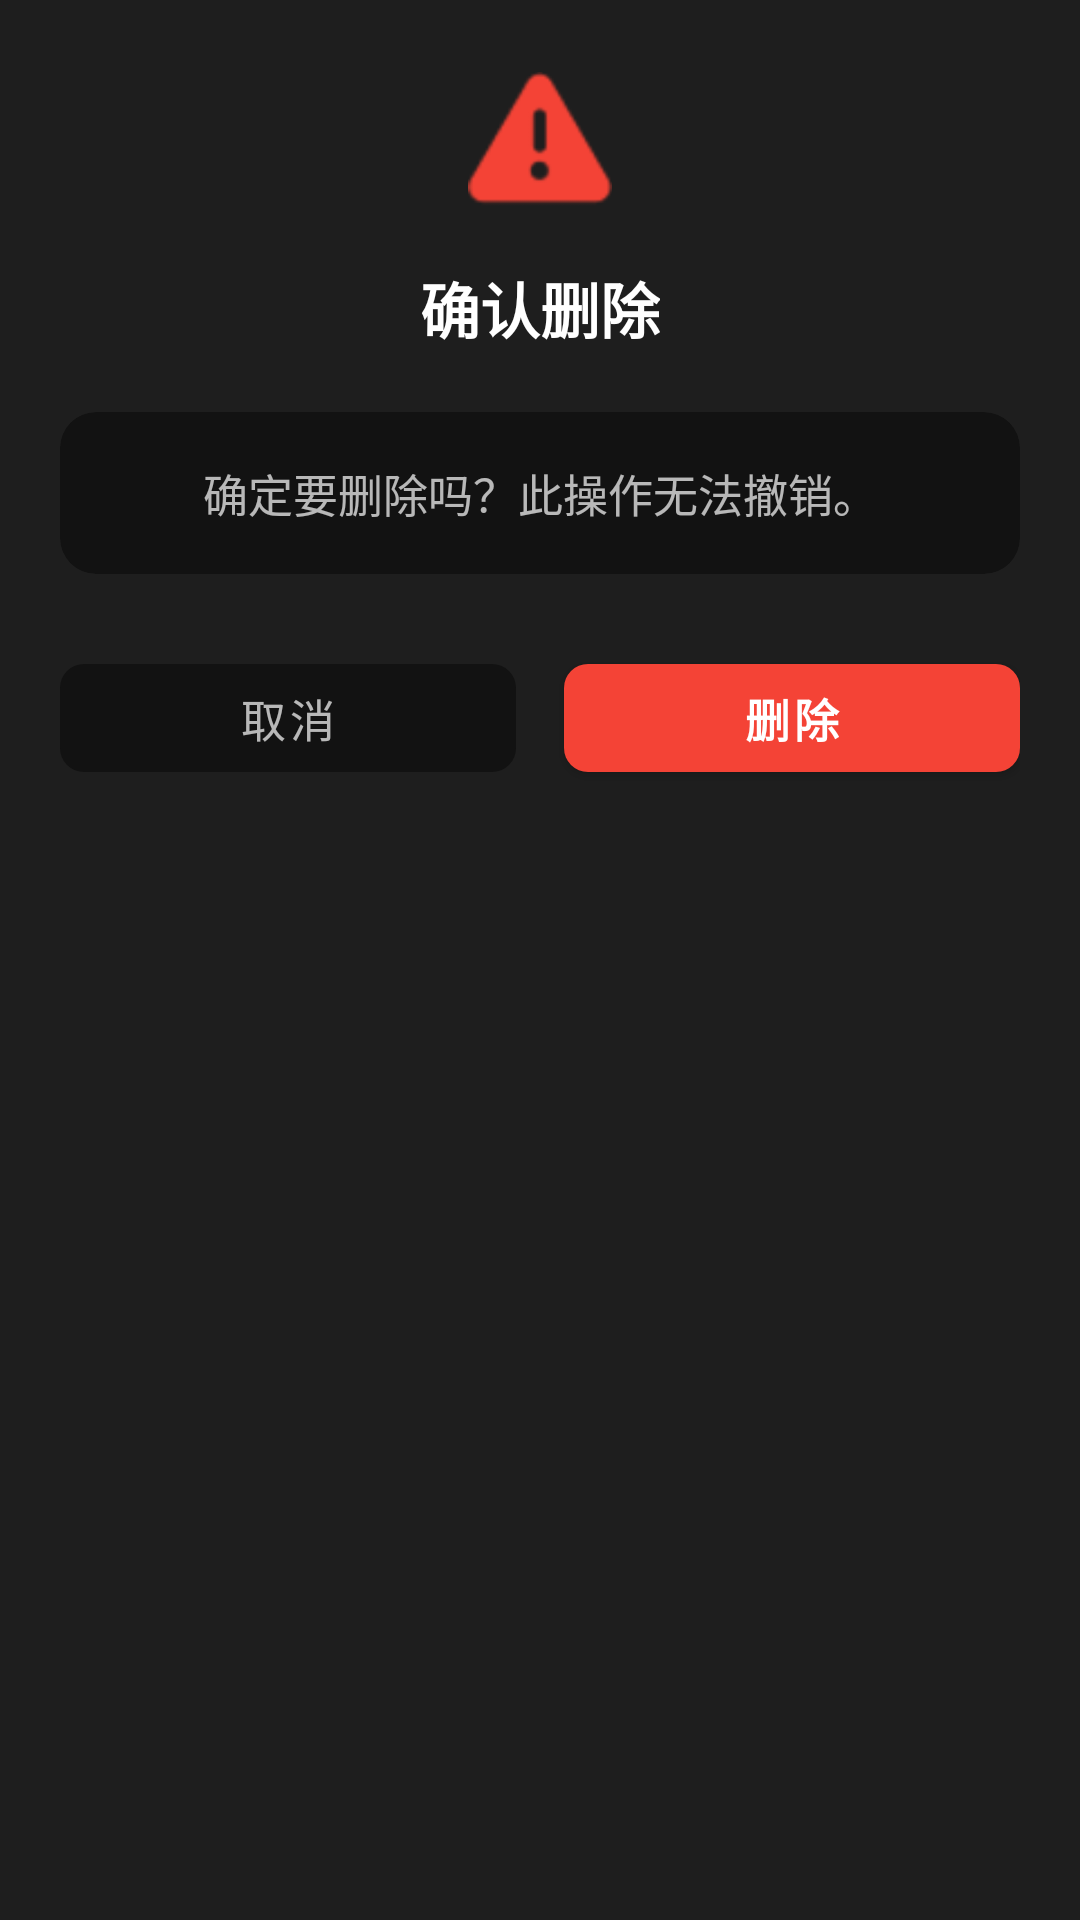

Locate icon controls on the screen. Image size 1080 x 1920, boxes as [x1,y1,x2,y2].
alert: [468,72,612,203]
